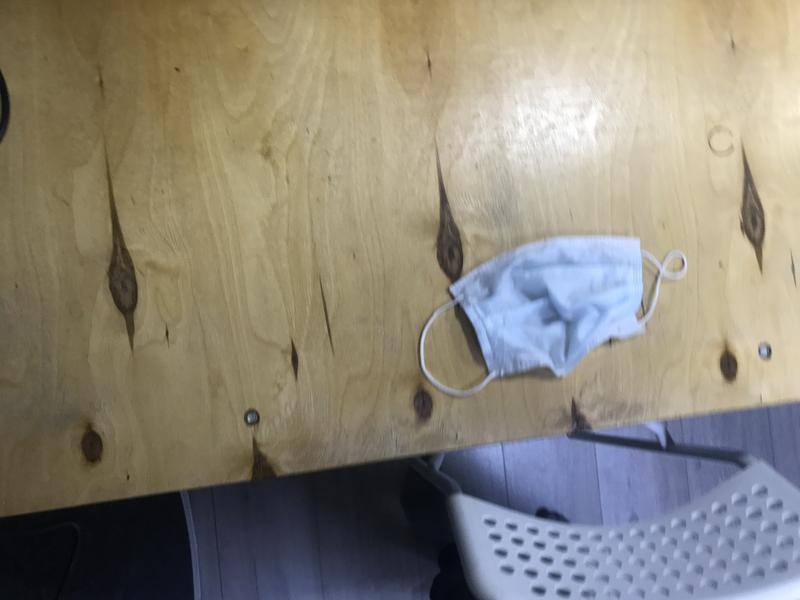medical_mask: (418, 237, 688, 397)
